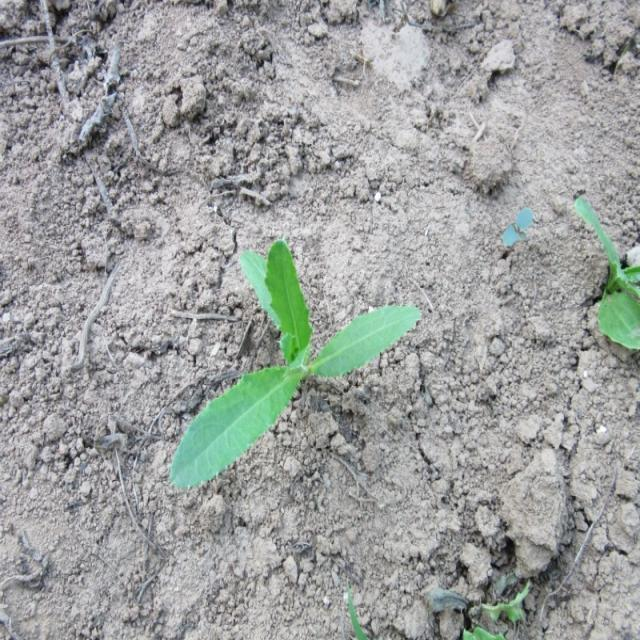cs: (171, 239, 422, 490)
